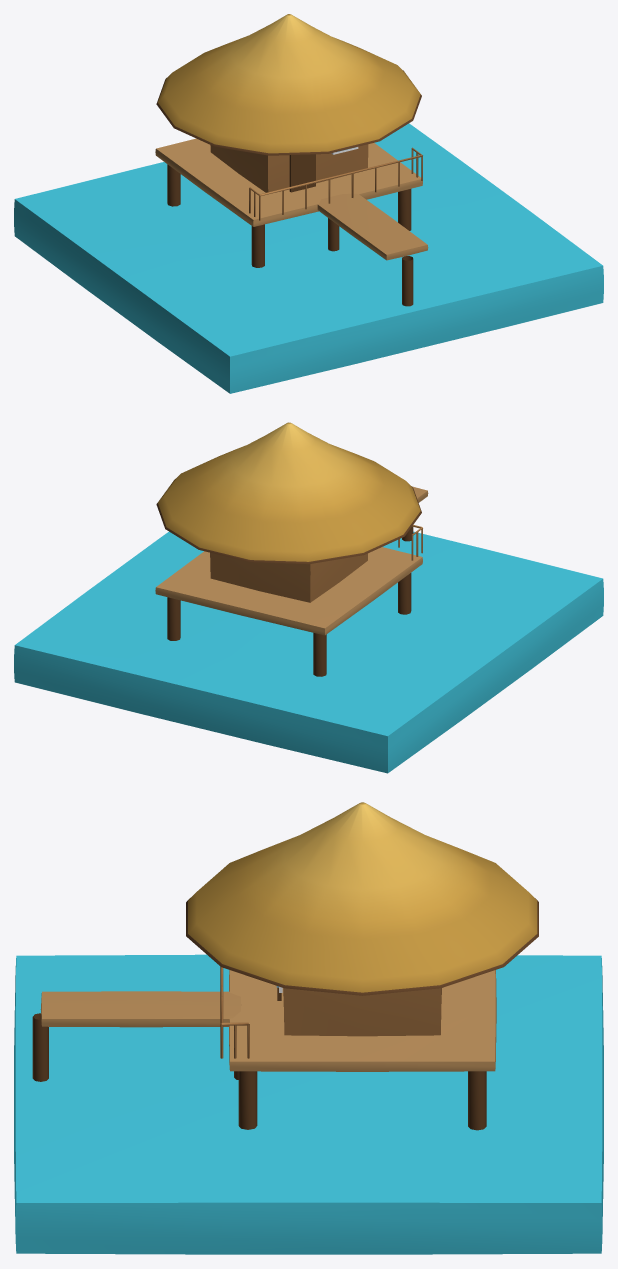
File: OverwaterBungalow_L1.obj
The picture shows the model from 3 angles, top to bottom: view 1: azimuth 30°, elevation 25°; view 2: azimuth 150°, elevation 25°; view 3: azimuth 270°, elevation 25°; orthographic projection. The views are drawn at different scales.
Visible parts, largest first — view 1: OverwaterBungalow_L1; view 2: OverwaterBungalow_L1; view 3: OverwaterBungalow_L1.
Part boxes in pixels (<box>): OverwaterBungalow_L1: <box>14,14,603,393</box>; OverwaterBungalow_L1: <box>14,422,603,773</box>; OverwaterBungalow_L1: <box>14,802,603,1254</box>.
Bounding box in the file's own units: 4.4 × 2.7 × 4.4.
1 material, 1 textured.
